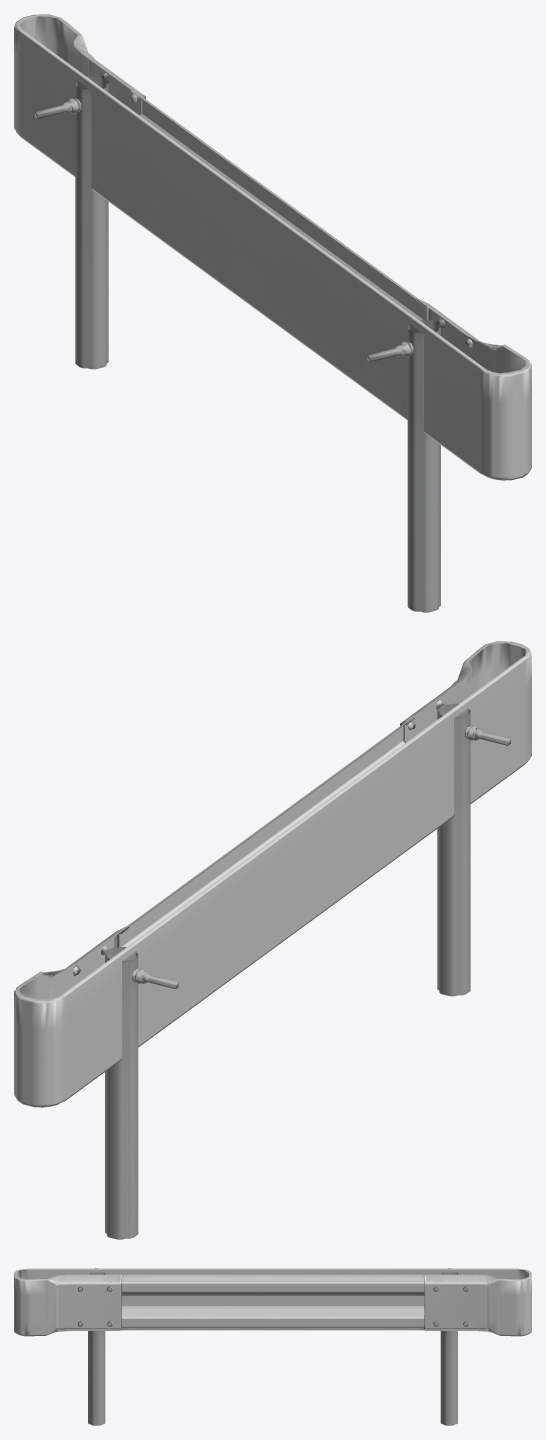
File: original_glb.glb
The picture shows the model from 3 angles, top to bottom: view 1: azimuth 30°, elevation 25°; view 2: azimuth 150°, elevation 25°; view 3: azimuth 270°, elevation 25°; orthographic projection. The views are drawn at different scales.
Visible parts, largest first — view 1: guardrail section; view 2: guardrail section; view 3: guardrail section.
Boxes of the visible parts, <box> form: guardrail section: <box>14,14,531,612</box>; guardrail section: <box>14,641,531,1239</box>; guardrail section: <box>14,1268,531,1425</box>.
Size of the model in its own units: 0.1113 by 0.3223 by 0.998.
Materials: 1 (1 with a texture image).
